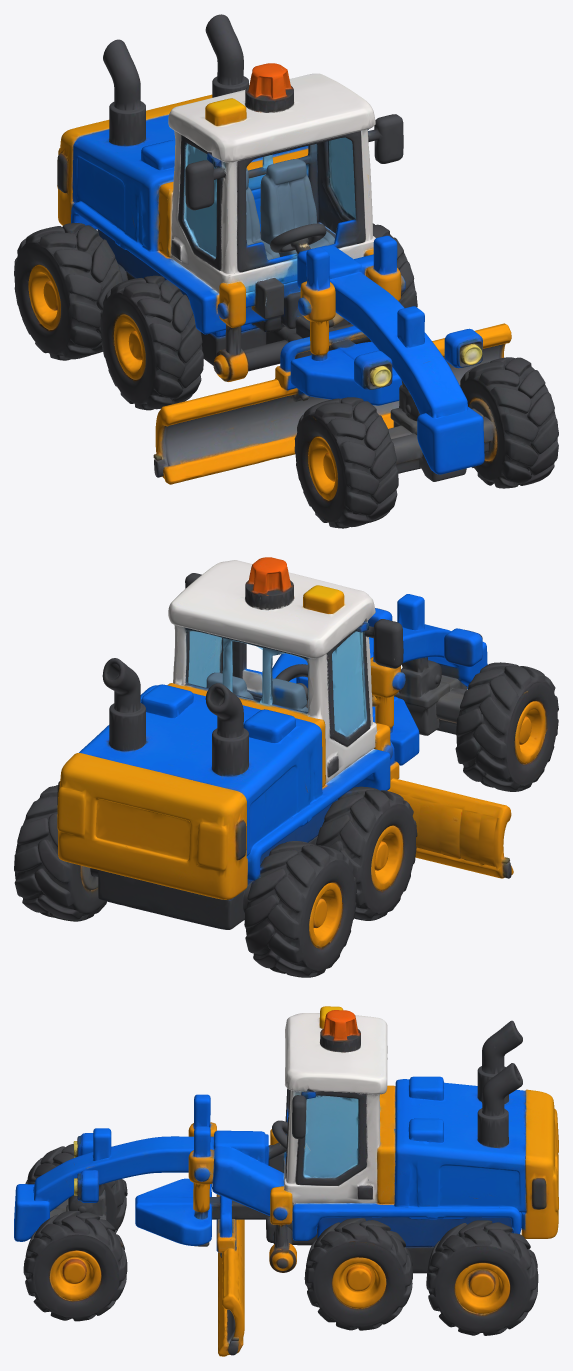
File: supplied-motor_grader.glb
3 views of the same model, one above another, from view 1: azimuth 30°, elevation 25°; view 2: azimuth 150°, elevation 25°; view 3: azimuth 270°, elevation 25° (orthographic). The views are drawn at different scales.
Parts seen in each view (by area): view 1: tripo_part_1, tripo_part_6, tripo_part_15, tripo_part_9, tripo_part_23, tripo_part_24, tripo_part_32, tripo_part_11, tripo_part_10, tripo_part_28, tripo_part_5, tripo_part_7 (+55 smaller); view 2: tripo_part_25, tripo_part_1, tripo_part_15, tripo_part_6, tripo_part_16, tripo_part_127, tripo_part_32, tripo_part_2, tripo_part_187, tripo_part_23, tripo_part_11, tripo_part_7 (+45 smaller); view 3: tripo_part_16, tripo_part_1, tripo_part_9, tripo_part_25, tripo_part_18, tripo_part_8, tripo_part_194, tripo_part_74, tripo_part_4, tripo_part_30, tripo_part_15, tripo_part_22 (+36 smaller).
Boxes of the visible parts, <box> form: tripo_part_1: <box>168,73,375,229</box>; tripo_part_6: <box>153,379,330,467</box>; tripo_part_15: <box>71,115,175,254</box>; tripo_part_9: <box>330,271,468,418</box>; tripo_part_23: <box>101,284,203,404</box>; tripo_part_24: <box>226,131,365,273</box>; tripo_part_32: <box>15,238,122,354</box>; tripo_part_11: <box>71,201,286,334</box>; tripo_part_10: <box>260,159,334,256</box>; tripo_part_28: <box>417,407,484,474</box>; tripo_part_5: <box>290,341,393,405</box>; tripo_part_7: <box>103,39,146,145</box>; tripo_part_25: <box>57,753,248,899</box>; tripo_part_1: <box>167,560,375,721</box>; tripo_part_15: <box>158,705,325,857</box>; tripo_part_6: <box>387,778,511,871</box>; tripo_part_16: <box>79,685,217,771</box>; tripo_part_127: <box>98,870,229,928</box>; tripo_part_32: <box>274,856,354,971</box>; tripo_part_2: <box>14,796,72,912</box>; tripo_part_187: <box>95,799,190,859</box>; tripo_part_23: <box>330,787,416,914</box>; tripo_part_11: <box>247,748,390,880</box>; tripo_part_7: <box>205,683,249,776</box>; tripo_part_16: <box>394,1109,526,1213</box>; tripo_part_1: <box>285,1013,395,1204</box>; tripo_part_9: <box>32,1136,214,1211</box>; tripo_part_25: <box>521,1089,558,1238</box>; tripo_part_18: <box>428,1235,527,1335</box>; tripo_part_8: <box>307,1222,412,1326</box>; tripo_part_194: <box>304,1095,358,1177</box>; tripo_part_74: <box>33,1234,119,1321</box>; tripo_part_4: <box>292,1203,521,1240</box>; tripo_part_30: <box>212,1146,292,1222</box>; tripo_part_15: <box>387,1079,525,1124</box>; tripo_part_22: <box>135,1197,216,1245</box>.
Size of the model in its own units: 0.6169 by 0.5395 by 0.9804.
Materials: 196 (196 with a texture image).
